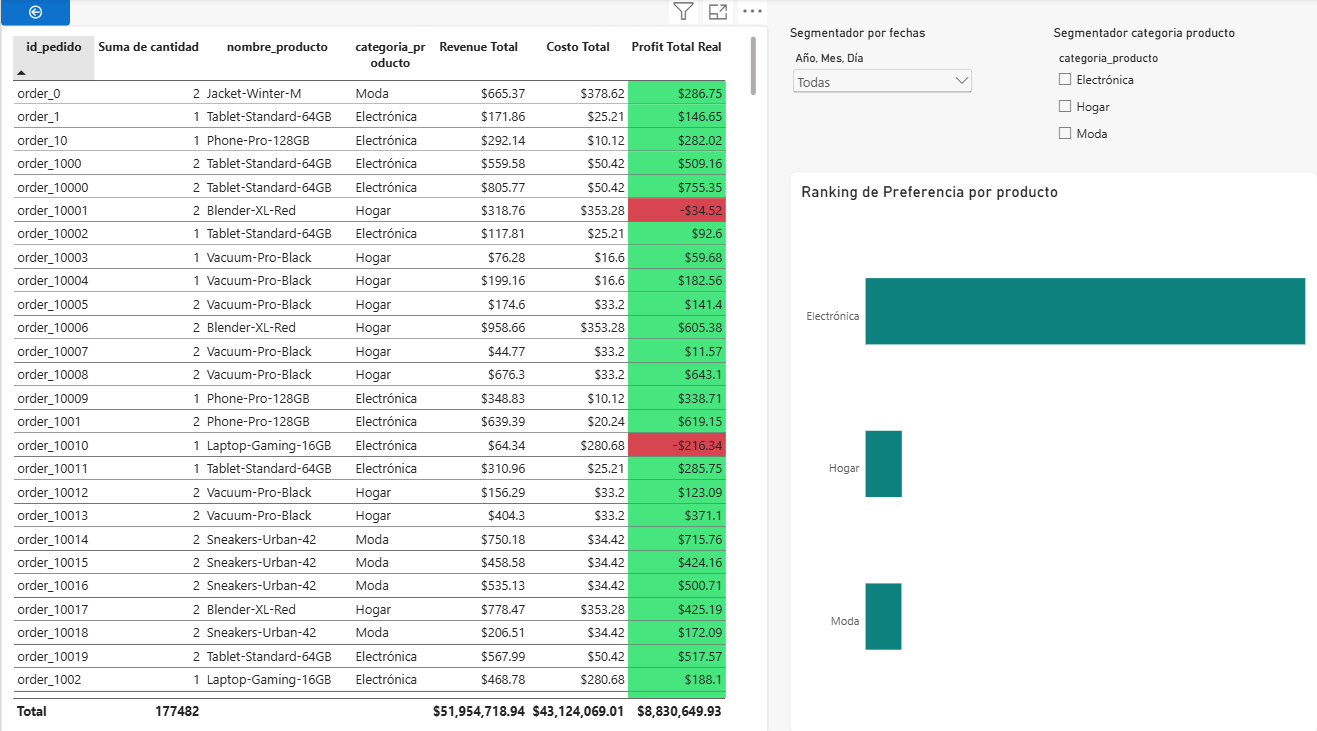

The dashboard page shown, as its layout file describes it:
{"tool":"powerbi","page":{"name":"Detalle ordenes","canvas":[1920,1080],"ordinal":1},"visuals":[{"type":"tableEx","fields":{"Values":["orders_clean.id_pedido","Sum(orders_clean.cantidad)","catalog_clean.nombre_producto","catalog_clean.categoria_producto","_Medidas.Revenue Total","_Medidas.Costo Total","_Medidas.Profit Total Real"]},"box":[0,39.6,1110.9,1025.1],"z":0},{"type":"actionButton","box":[0,0,100,40],"z":1000},{"type":"slicer","title":"Segmentador por fechas","fields":{"Values":["Dim_Fecha.Date.Variación.Jerarquía de fechas.Año","Dim_Fecha.Date.Variación.Jerarquía de fechas.Mes","Dim_Fecha.Date.Variación.Jerarquía de fechas.Día"]},"box":[1141.9,40.6,269.3,210.3],"z":2000},{"type":"slicer","title":"Segmentador categoria producto","fields":{"Values":["catalog_clean.categoria_producto"]},"box":[1523.8,40.6,274.9,210.3],"z":3000},{"type":"clusteredBarChart","title":"Ranking de Preferencia por producto","fields":{"Y":["Sum(orders_clean.cantidad)"],"Category":["catalog_clean.categoria_producto"]},"box":[1141.9,250.9,763.7,811.7],"z":4000}]}

Visuals, with their boxes on the page's 1920x1080 design canvas (x1, y1, x2, y2). These are canvas units, not pixel positions in the 1317x731 screenshot, which may show the page scaled, cropped or inside an application window:
tableEx - orders_clean.id_pedido x Sum(orders_clean.cantidad): (left=0, top=40, right=1111, bottom=1065)
actionButton: (left=0, top=0, right=100, bottom=40)
"Segmentador por fechas" slicer: (left=1142, top=41, right=1411, bottom=251)
"Segmentador categoria producto" slicer: (left=1524, top=41, right=1799, bottom=251)
"Ranking de Preferencia por producto" clusteredBarChart: (left=1142, top=251, right=1906, bottom=1063)
